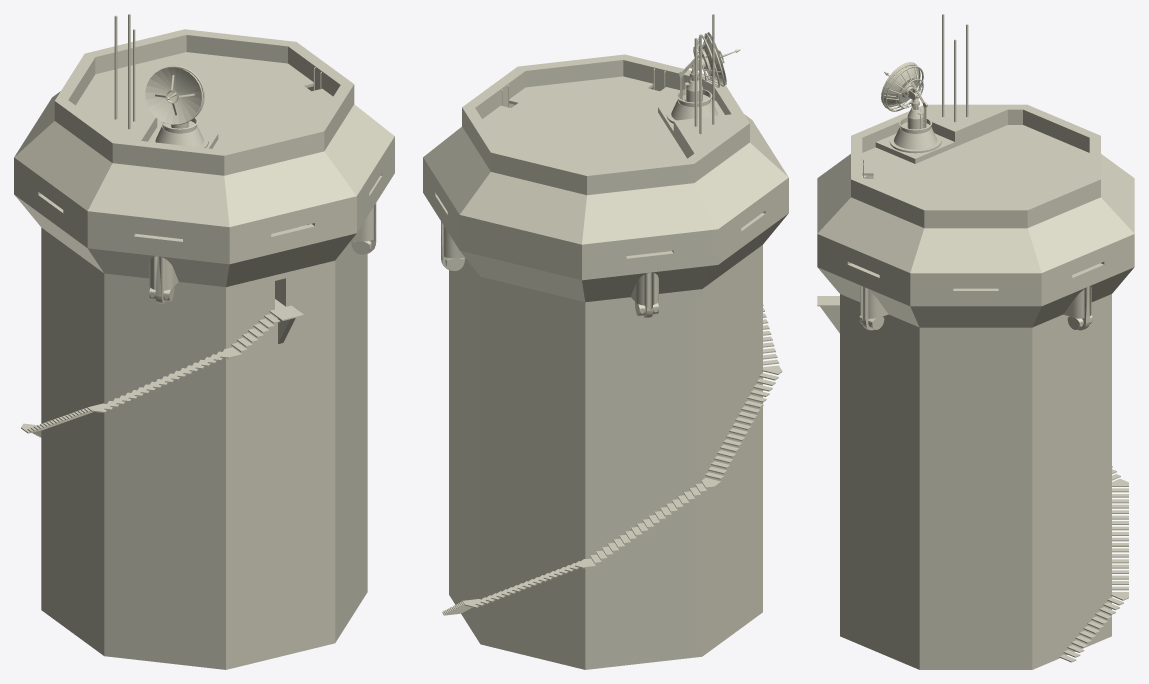
3 views of the same model, side by side, from view 1: azimuth 30°, elevation 25°; view 2: azimuth 150°, elevation 25°; view 3: azimuth 270°, elevation 25° (orthographic). The views are drawn at different scales.
Visible parts, largest first — view 1: mesh86_mesh86-geometry, mesh80_mesh80-geometry, mesh7_mesh7-geometry; view 2: mesh86_mesh86-geometry, mesh7_mesh7-geometry, mesh80_mesh80-geometry, mesh6_mesh6-geometry; view 3: mesh86_mesh86-geometry, mesh7_mesh7-geometry, mesh80_mesh80-geometry, mesh71_mesh71-geometry, mesh6_mesh6-geometry.
Boxes of the visible parts, bbox=[...] form: mesh86_mesh86-geometry: bbox=[14, 14, 394, 669]; mesh80_mesh80-geometry: bbox=[145, 67, 201, 124]; mesh7_mesh7-geometry: bbox=[150, 125, 208, 147]; mesh86_mesh86-geometry: bbox=[423, 14, 788, 669]; mesh7_mesh7-geometry: bbox=[666, 99, 722, 123]; mesh80_mesh80-geometry: bbox=[692, 32, 726, 85]; mesh6_mesh6-geometry: bbox=[676, 63, 712, 103]; mesh86_mesh86-geometry: bbox=[817, 14, 1134, 669]; mesh7_mesh7-geometry: bbox=[889, 126, 941, 153]; mesh80_mesh80-geometry: bbox=[881, 62, 919, 107]; mesh71_mesh71-geometry: bbox=[882, 64, 923, 111]; mesh6_mesh6-geometry: bbox=[899, 92, 932, 130].
Bounding box in the file's own units: 0.417 × 0.8076 × 0.417.
